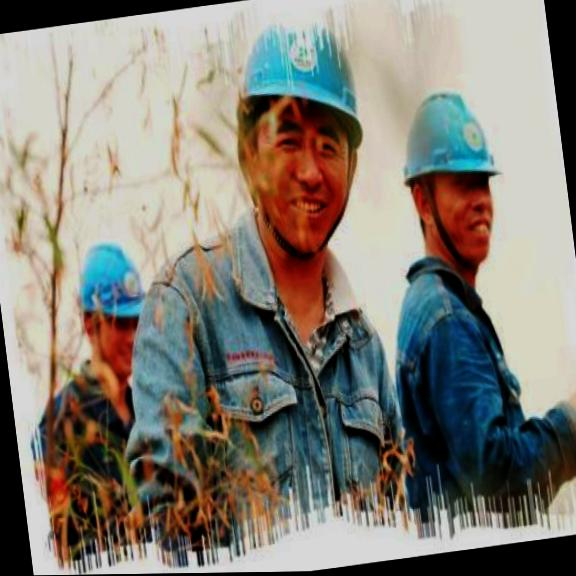no_safety_vest: (138, 218, 406, 543), (376, 248, 538, 520), (21, 368, 153, 576)
